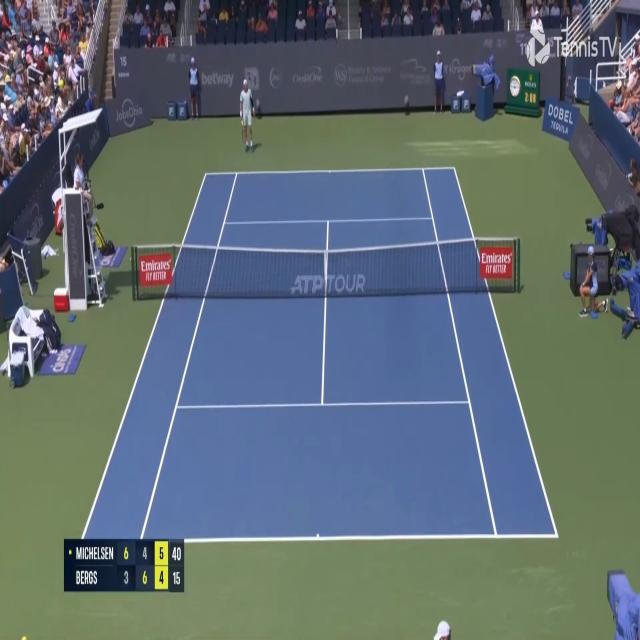tennis-player: (239, 78, 259, 155)
